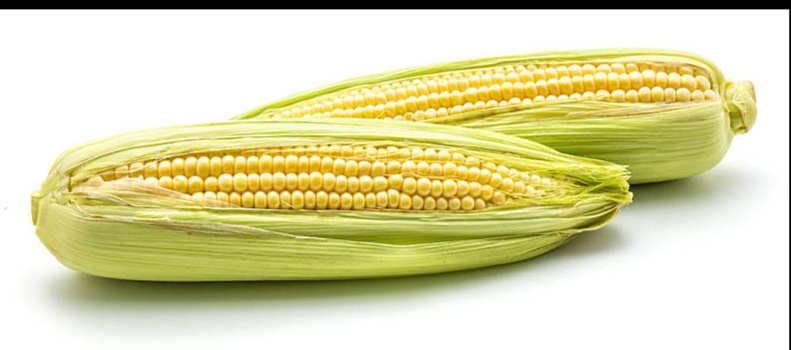corn: (24, 120, 635, 277), (210, 47, 756, 183)
